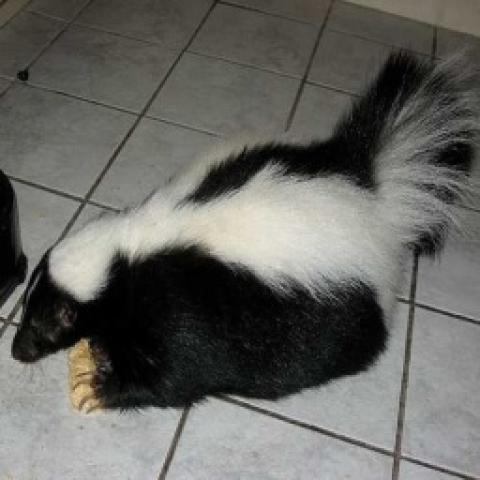small_animal: (2, 43, 478, 418)
